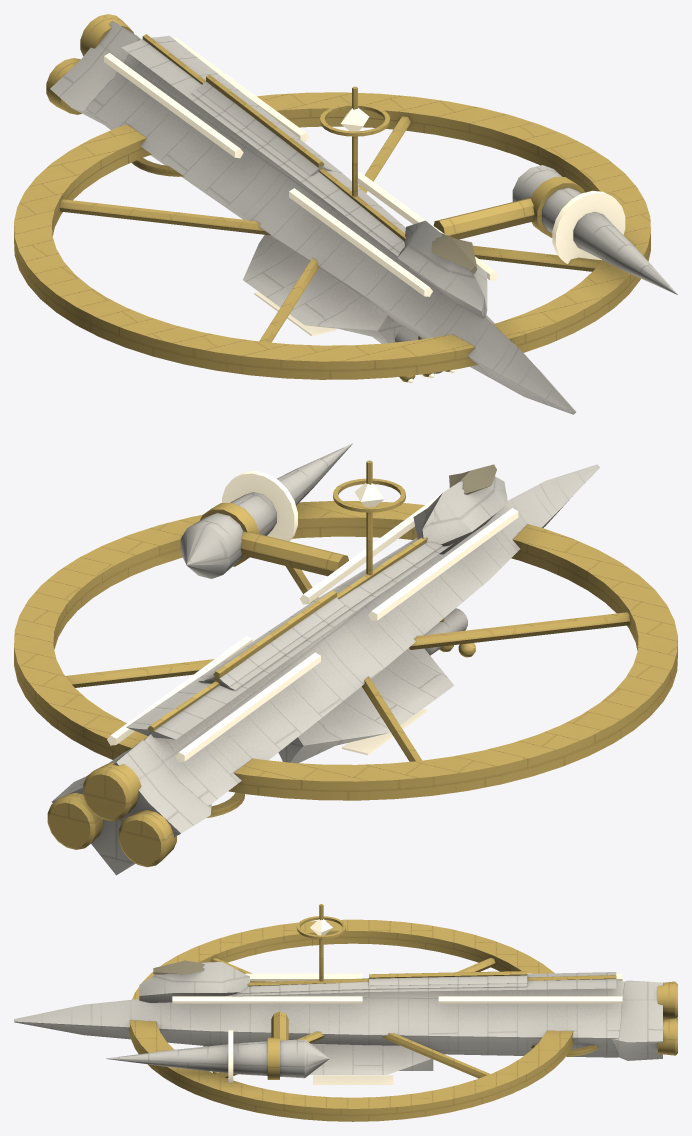
File: seraphine_carrier.glb
3 renders of one model, top to bottom at view 1: azimuth 30°, elevation 25°; view 2: azimuth 150°, elevation 25°; view 3: azimuth 270°, elevation 25°, orthographic. The views are drawn at different scales.
Parts seen in each view (by area): view 1: HULL, SYS_WPN1, SYS_HANGAR, SYS_DRIVE, SYS_BRIDGE, SYS_BUS_F, SYS_BUS_A, SYS_SENSORS; view 2: HULL, SYS_DRIVE, SYS_WPN1, SYS_HANGAR, SYS_BRIDGE, SYS_BUS_F, SYS_BUS_A, SYS_SENSORS, SYS_PD; view 3: HULL, SYS_WPN1, SYS_DRIVE, SYS_HANGAR, SYS_BRIDGE, SYS_BUS_F, SYS_BUS_A, SYS_SENSORS.
Boxes of the visible parts, x1,y1,x2,y2 form: HULL: (14, 34, 650, 414); SYS_WPN1: (433, 165, 677, 294); SYS_HANGAR: (243, 235, 403, 343); SYS_DRIVE: (46, 14, 141, 129); SYS_BRIDGE: (397, 220, 487, 318); SYS_BUS_F: (289, 172, 498, 296); SYS_BUS_A: (104, 37, 309, 158); SYS_SENSORS: (320, 86, 390, 196); HULL: (14, 464, 677, 805); SYS_DRIVE: (47, 740, 211, 875); SYS_WPN1: (180, 443, 352, 578); SYS_HANGAR: (278, 648, 454, 763); SYS_BRIDGE: (413, 464, 507, 554); SYS_BUS_F: (299, 491, 518, 621); SYS_BUS_A: (107, 636, 320, 762); SYS_SENSORS: (333, 460, 405, 574); SYS_PD: (424, 608, 475, 657); HULL: (14, 919, 624, 1121); SYS_WPN1: (106, 1011, 329, 1082); SYS_DRIVE: (611, 980, 677, 1060); SYS_HANGAR: (309, 1043, 433, 1084); SYS_BRIDGE: (139, 960, 249, 1002); SYS_BUS_F: (172, 973, 362, 1003); SYS_BUS_A: (438, 973, 622, 1003); SYS_SENSORS: (296, 904, 345, 981).
Size of the model in its own units: 39.82 by 16.29 by 59.
1 material, 1 textured.
